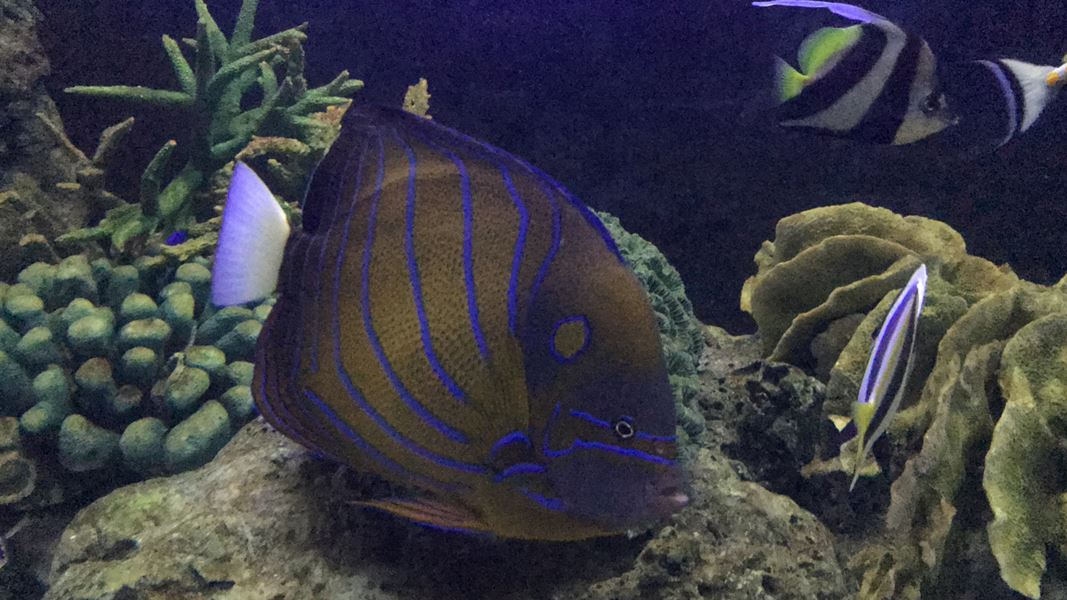Blue ring angelfish: (194, 93, 711, 567)
